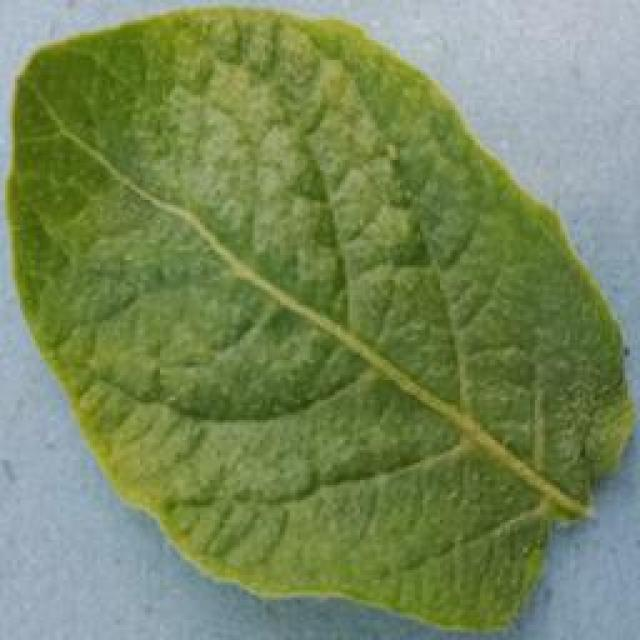Potato_Healthy: (10, 7, 624, 631)
